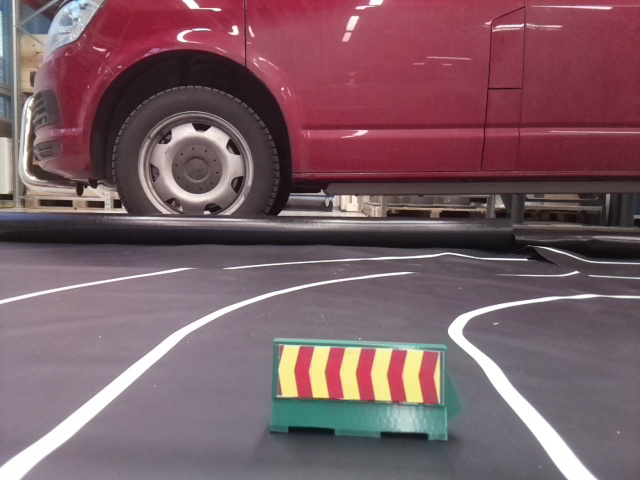ClosedRoadStand: (274, 340, 450, 437)
